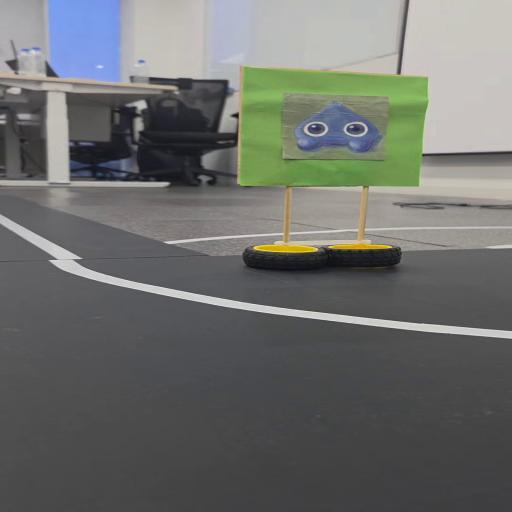Sign_B: (236, 64, 440, 282)
